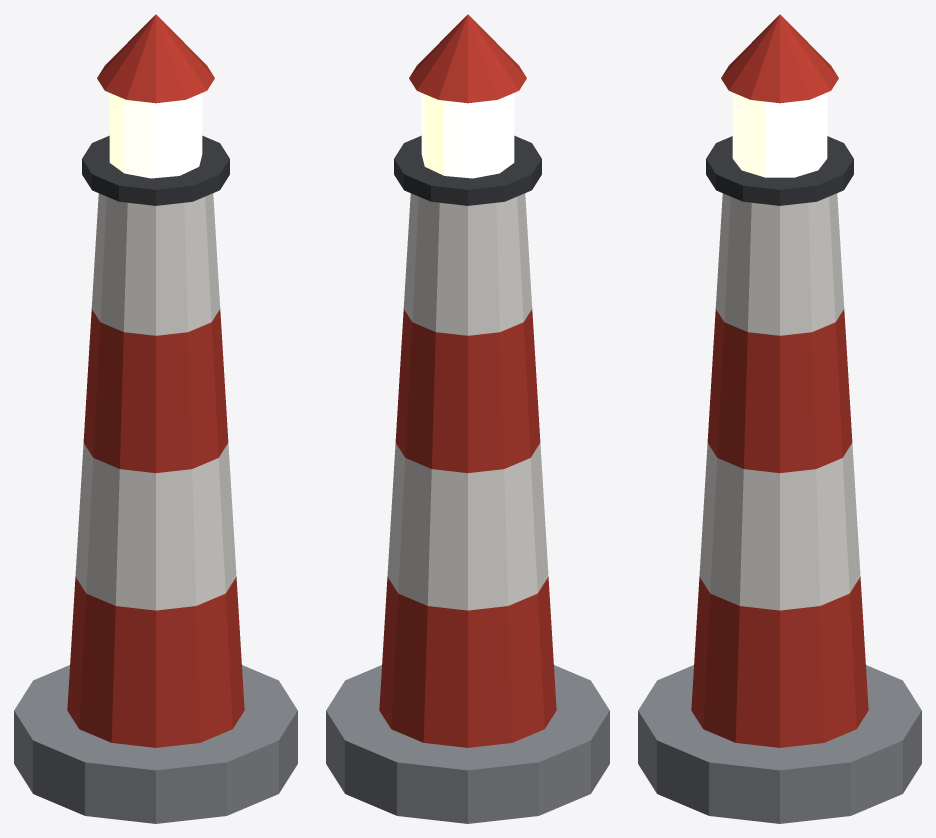
The model's file is lighthouse.glb.
3 renders of one model, left to right at view 1: azimuth 30°, elevation 25°; view 2: azimuth 150°, elevation 25°; view 3: azimuth 270°, elevation 25°, orthographic.
Visible parts, largest first — view 1: Lighthouse; view 2: Lighthouse; view 3: Lighthouse.
Part boxes in pixels (box(x1,y1,x2,y2)): Lighthouse: box(14, 14, 297, 823); Lighthouse: box(326, 14, 609, 823); Lighthouse: box(638, 14, 921, 823).
Bounding box in the file's own units: 0.48 × 1.4 × 0.48.
